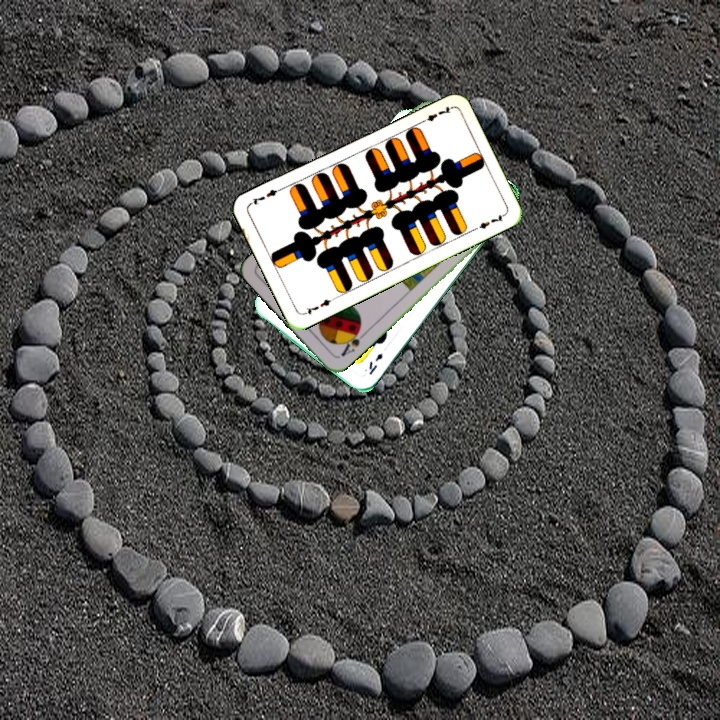E7: (299, 293, 337, 318), (416, 102, 454, 126)
EK: (365, 349, 385, 377)
SA: (337, 324, 368, 359)
